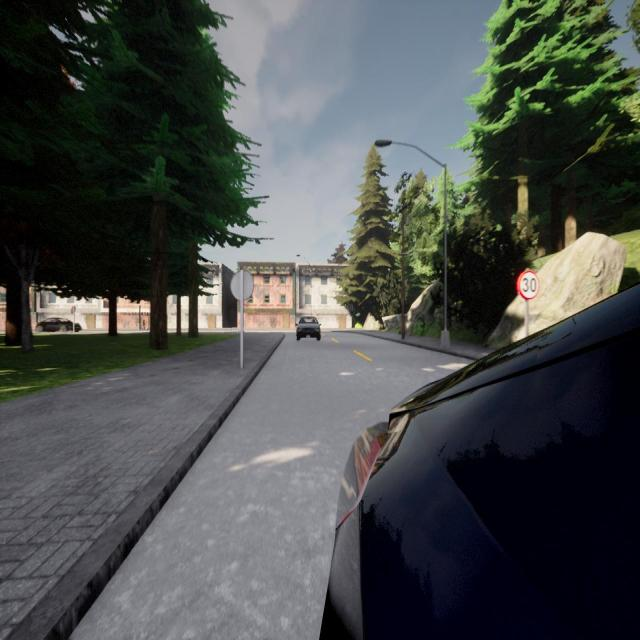Traffic_Signs: (516, 269, 541, 300), (231, 270, 254, 300), (70, 306, 77, 314)
Vehicle: (322, 283, 640, 638), (35, 317, 81, 332), (295, 317, 322, 341)
